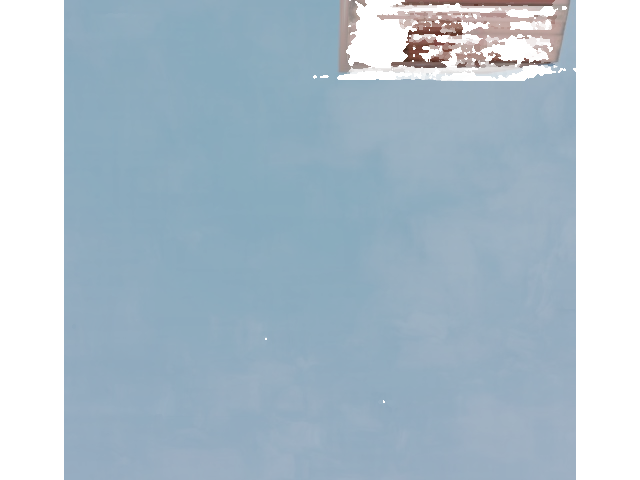container4: (333, 0, 570, 77)
